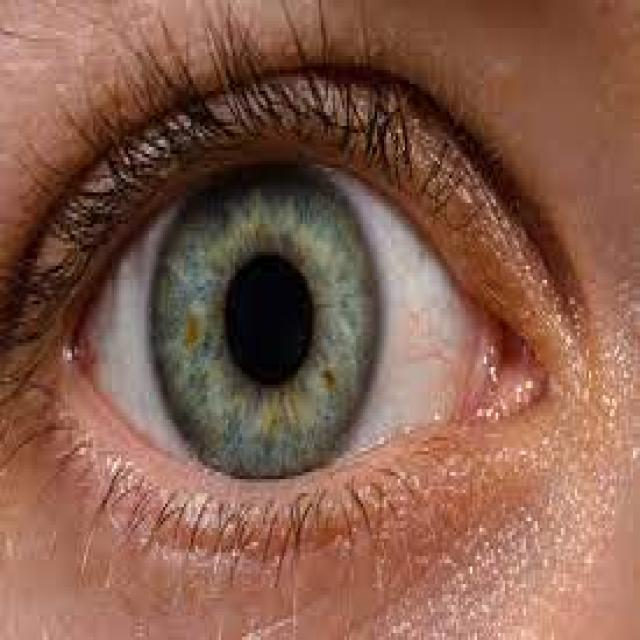Eyes-iris: (143, 162, 385, 482)
